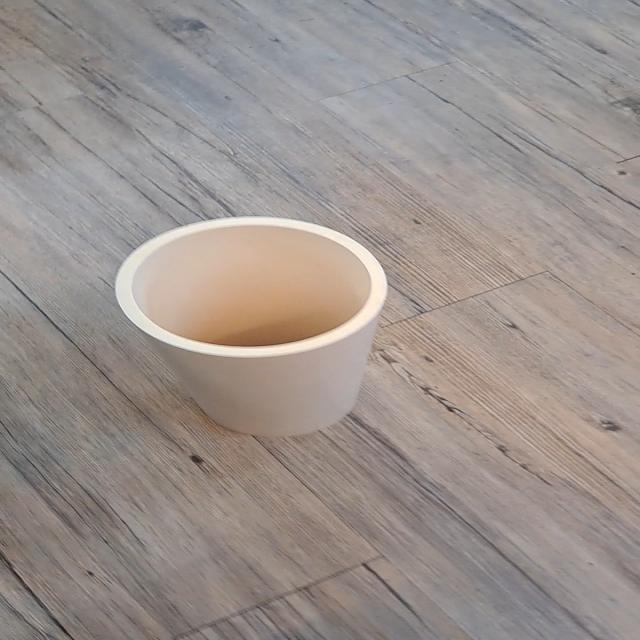CORAL: (87, 204, 409, 441)
